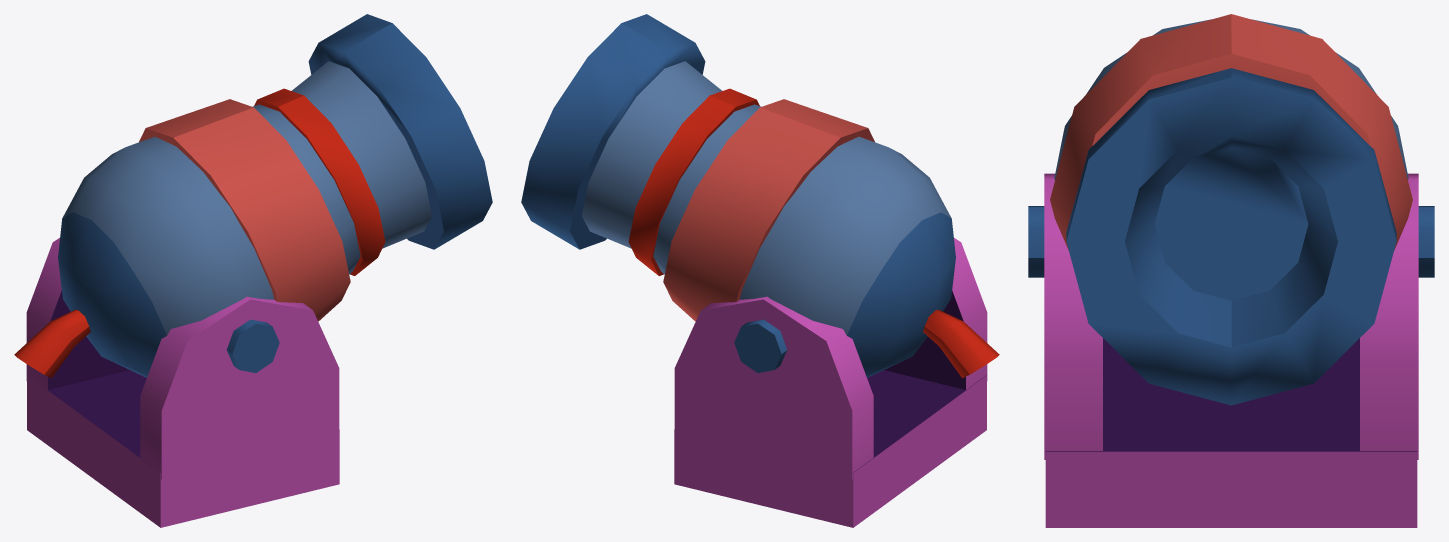
Rendered from pushka_Lv2.fbx.
The picture shows the model from 3 angles, left to right: view 1: azimuth 30°, elevation 25°; view 2: azimuth 150°, elevation 25°; view 3: azimuth 270°, elevation 25°; orthographic projection. The views are drawn at different scales.
Parts seen in each view (by area): view 1: wSphere.002, wTube.023, Cube.013, wTube.027, wTube.025, wTube.026, wTube.022, wTube.021, wTube.024; view 2: wSphere.002, wTube.023, Cube.013, wTube.027, wTube.025, wTube.026, wTube.022, wTube.021, wTube.024; view 3: wTube.025, Cube.013, wTube.023, wTube.027, wTube.024, wSphere.002.
Boxes of the visible parts, <box> form: wSphere.002: <box>58,136,274,377</box>; wTube.023: <box>26,238,339,479</box>; Cube.013: <box>27,370,339,527</box>; wTube.027: <box>139,99,350,321</box>; wTube.025: <box>308,14,492,249</box>; wTube.026: <box>252,61,431,274</box>; wTube.022: <box>254,88,385,275</box>; wTube.021: <box>14,309,90,378</box>; wTube.024: <box>227,319,279,372</box>; wSphere.002: <box>739,136,955,377</box>; wTube.023: <box>674,238,987,479</box>; Cube.013: <box>674,370,986,527</box>; wTube.027: <box>663,99,874,321</box>; wTube.025: <box>521,14,705,249</box>; wTube.026: <box>582,61,761,274</box>; wTube.022: <box>628,88,759,275</box>; wTube.021: <box>923,309,999,378</box>; wTube.024: <box>734,319,786,372</box>; wTube.025: <box>1066,68,1396,405</box>; Cube.013: <box>1045,338,1417,527</box>; wTube.023: <box>1044,173,1418,459</box>; wTube.027: <box>1050,14,1412,250</box>; wTube.024: <box>1028,206,1434,277</box>; wSphere.002: <box>1054,19,1408,179</box>.
Bounding box in the file's own units: 502 × 418 × 289.
